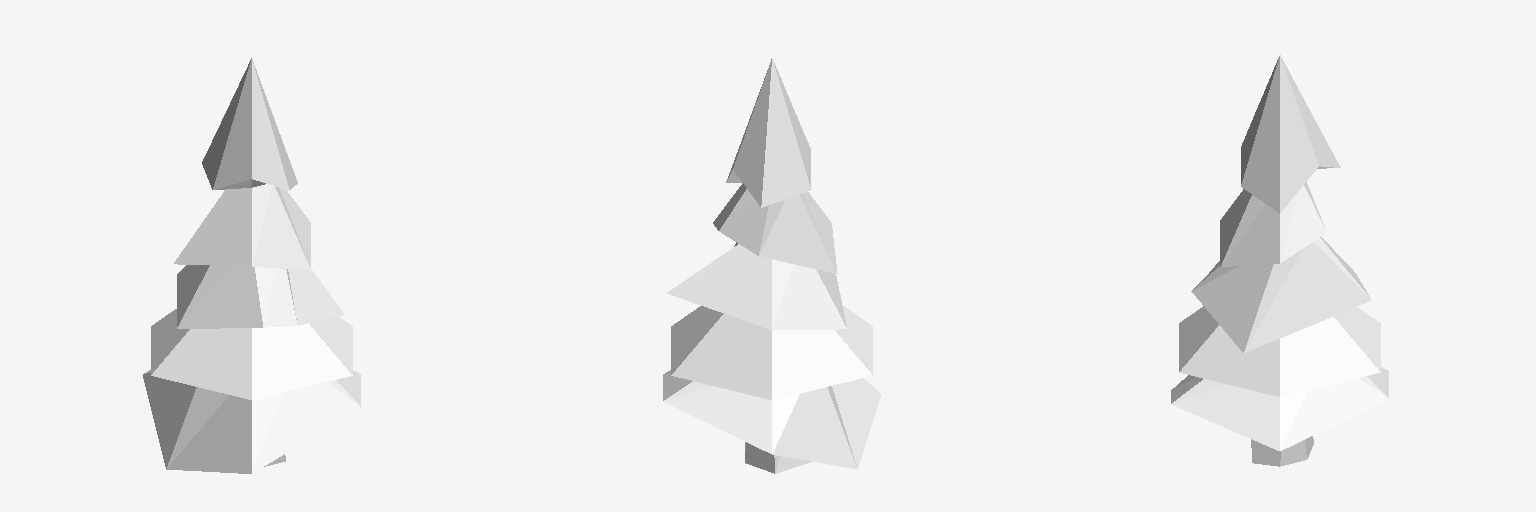
The model's file is sapin_texture_coat.obj.
3 renders of one model, left to right at view 1: azimuth 30°, elevation 25°; view 2: azimuth 150°, elevation 25°; view 3: azimuth 270°, elevation 25°, orthographic.
Parts seen in each view (by area): view 1: CL_Sapin1_SeamsColor; view 2: CL_Sapin1_SeamsColor; view 3: CL_Sapin1_SeamsColor.
Boxes of the visible parts, x1,y1,x2,y2 form: CL_Sapin1_SeamsColor: [143, 58, 360, 473]; CL_Sapin1_SeamsColor: [663, 58, 881, 473]; CL_Sapin1_SeamsColor: [1171, 55, 1388, 466].
Size of the model in its own units: 39.8 by 72.11 by 35.85.